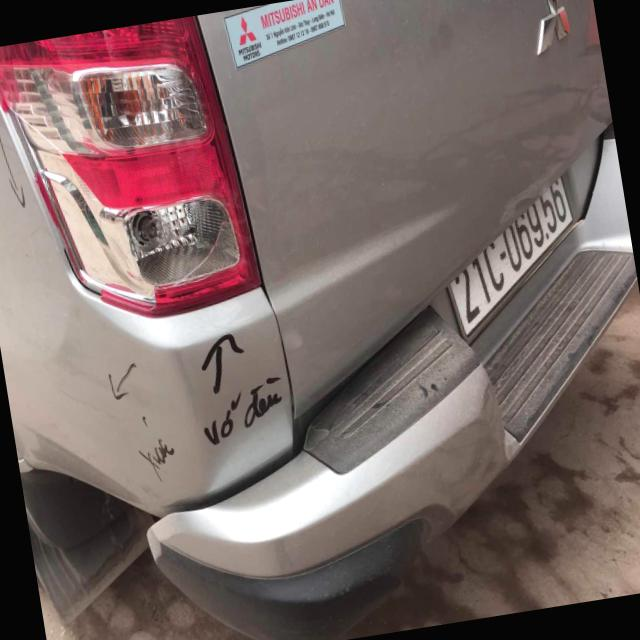Phare abime: (118, 190, 241, 305)
Rayure: (50, 371, 137, 449)
